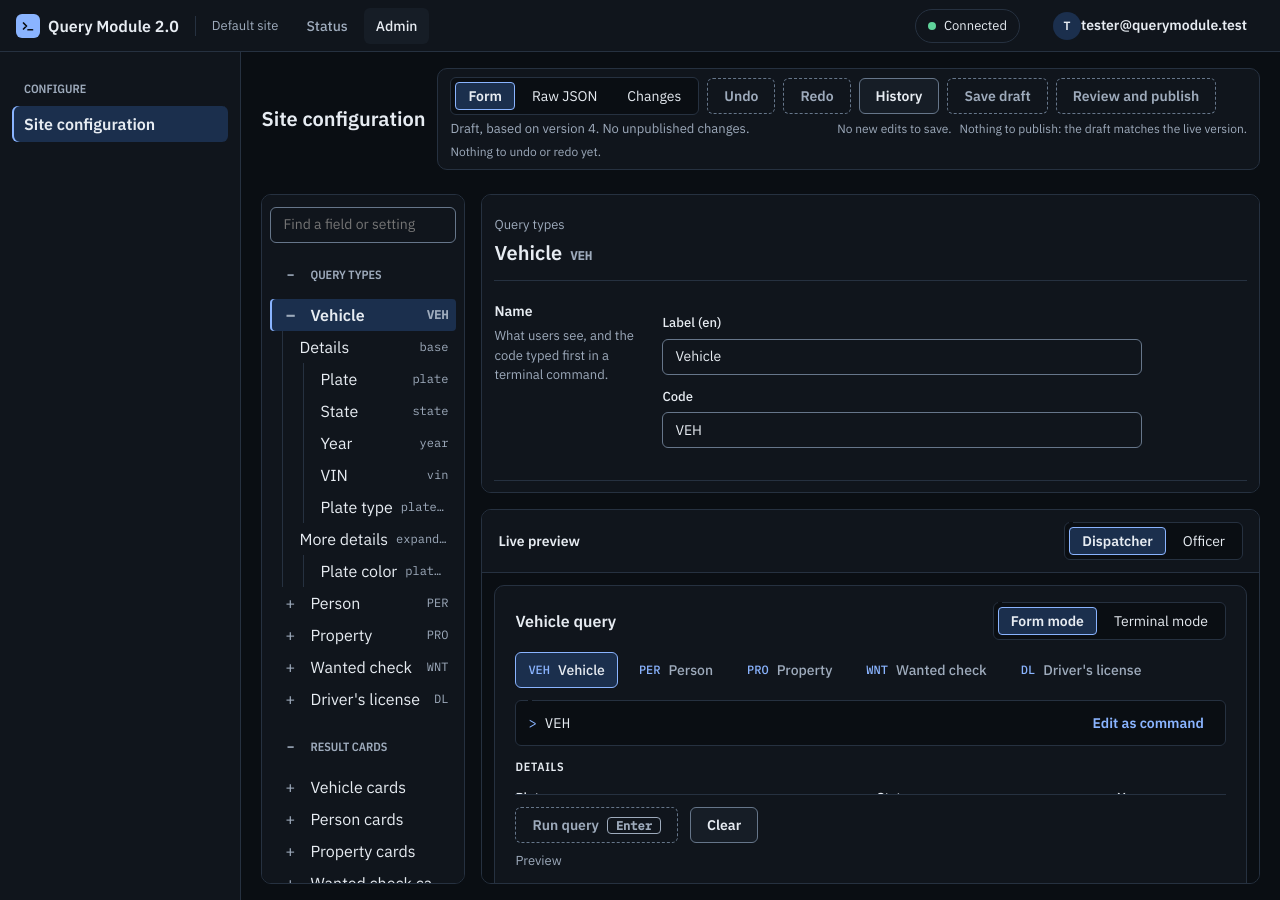
it: the history drawer › History is an enabled button that opens a named region listing versions newest first
The width and height of the screenshot is (1280, 900).
Expected: the tab "Form" is shown, 456,82 -> 515,110
Expected: the element "Version history" is not shown
What coordinates should you click on to do the following:
click the button "History"
I would click on:
 (899, 96)
Its box is 859,78 -> 939,114.
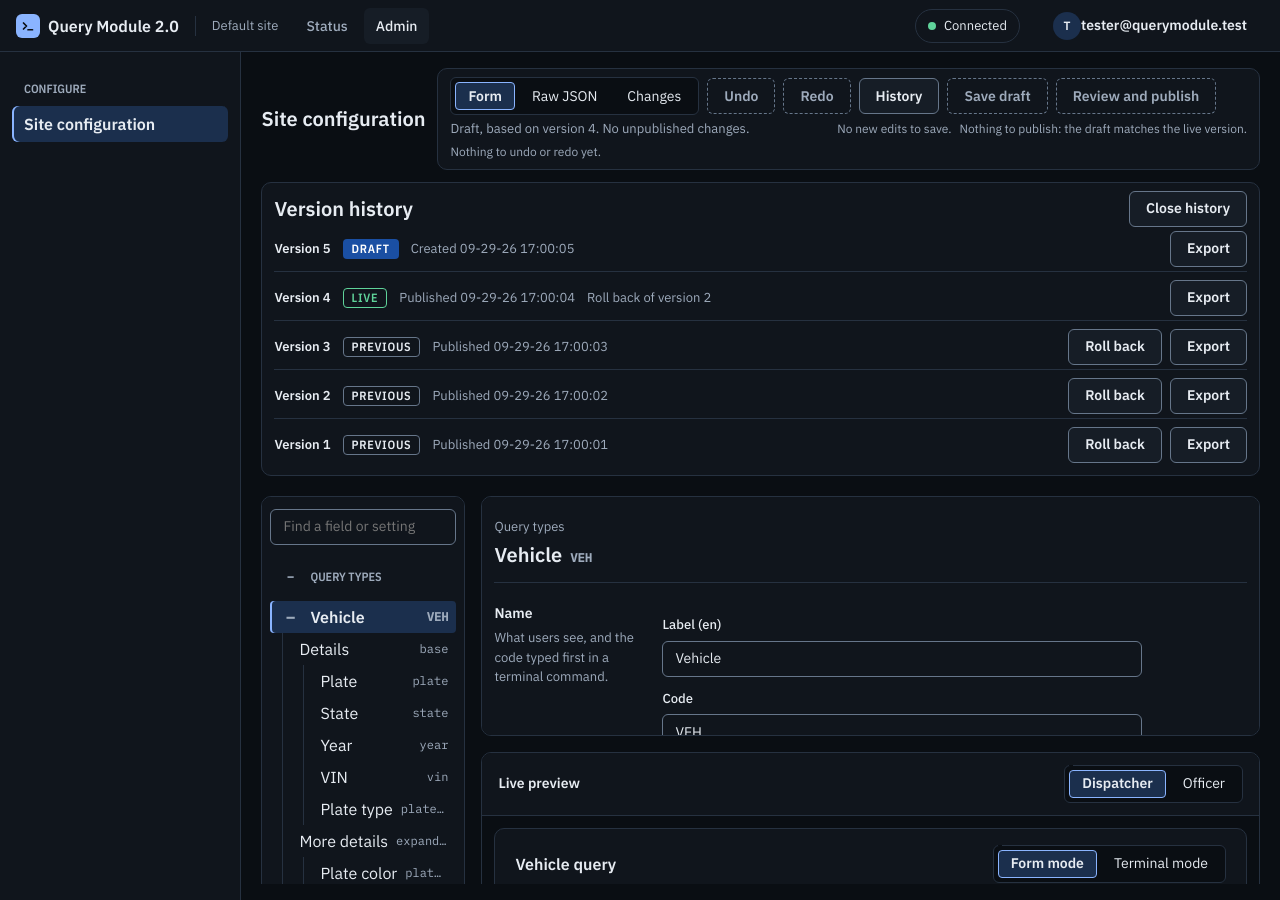
Expected: the text "Version 5" is shown, 274,239 -> 330,258
Expected: the heading "Version history" is shown, 274,194 -> 413,224
